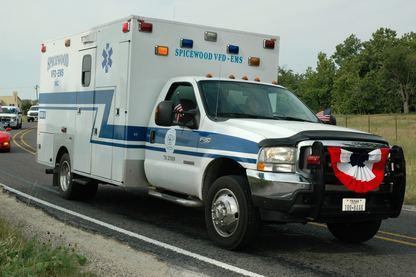ambulance: (36, 15, 406, 252)
